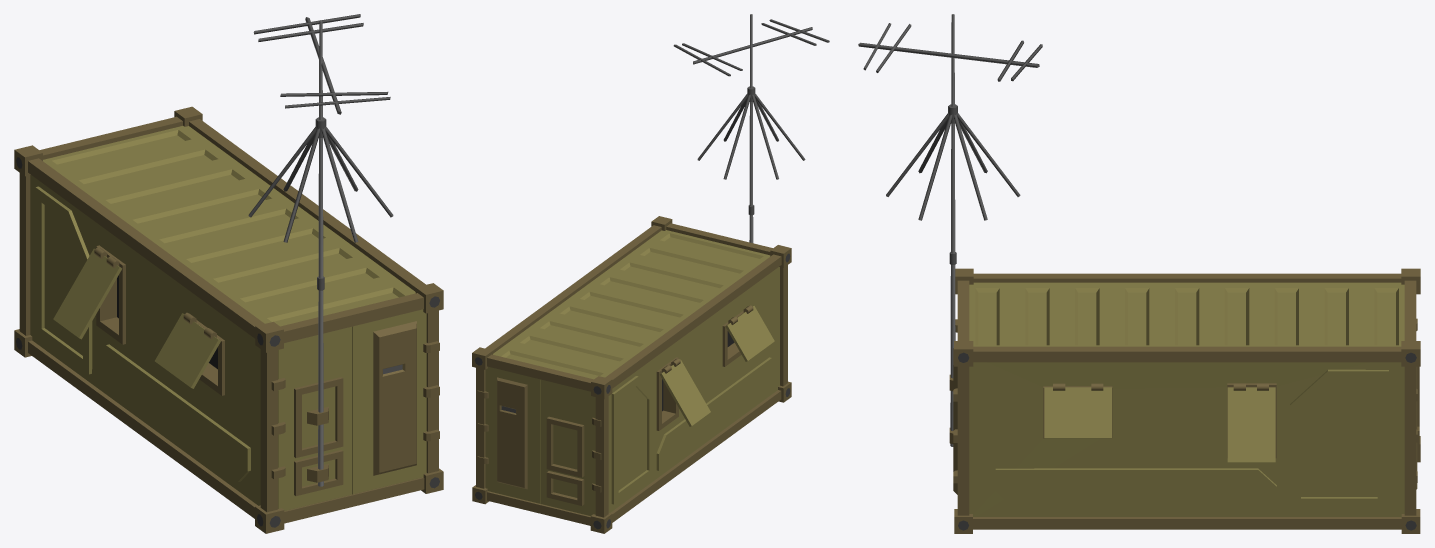
Rendered from ds_radio.glb.
3 views of the same model, side by side, from view 1: azimuth 30°, elevation 25°; view 2: azimuth 150°, elevation 25°; view 3: azimuth 270°, elevation 25° (orthographic). The views are drawn at different scales.
Parts seen in each view (by area): view 1: ds_radio; view 2: ds_radio; view 3: ds_radio.
Boxes of the visible parts, <box> form: ds_radio: <box>14,14,443,533</box>; ds_radio: <box>472,14,829,533</box>; ds_radio: <box>858,14,1420,533</box>.
Bounding box in the file's own units: 3.63 × 6.75 × 7.42.
